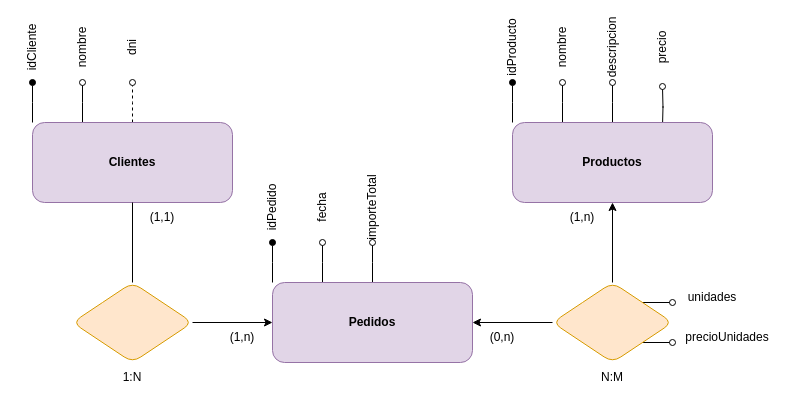
The diagram is 789 pixels wide and 410 high, and some of its shapes have lost their labels. Each missing label, with the centre of its shape:
"Contiene" goes at point 612,322.
"Realiza" goes at point 132,322.
